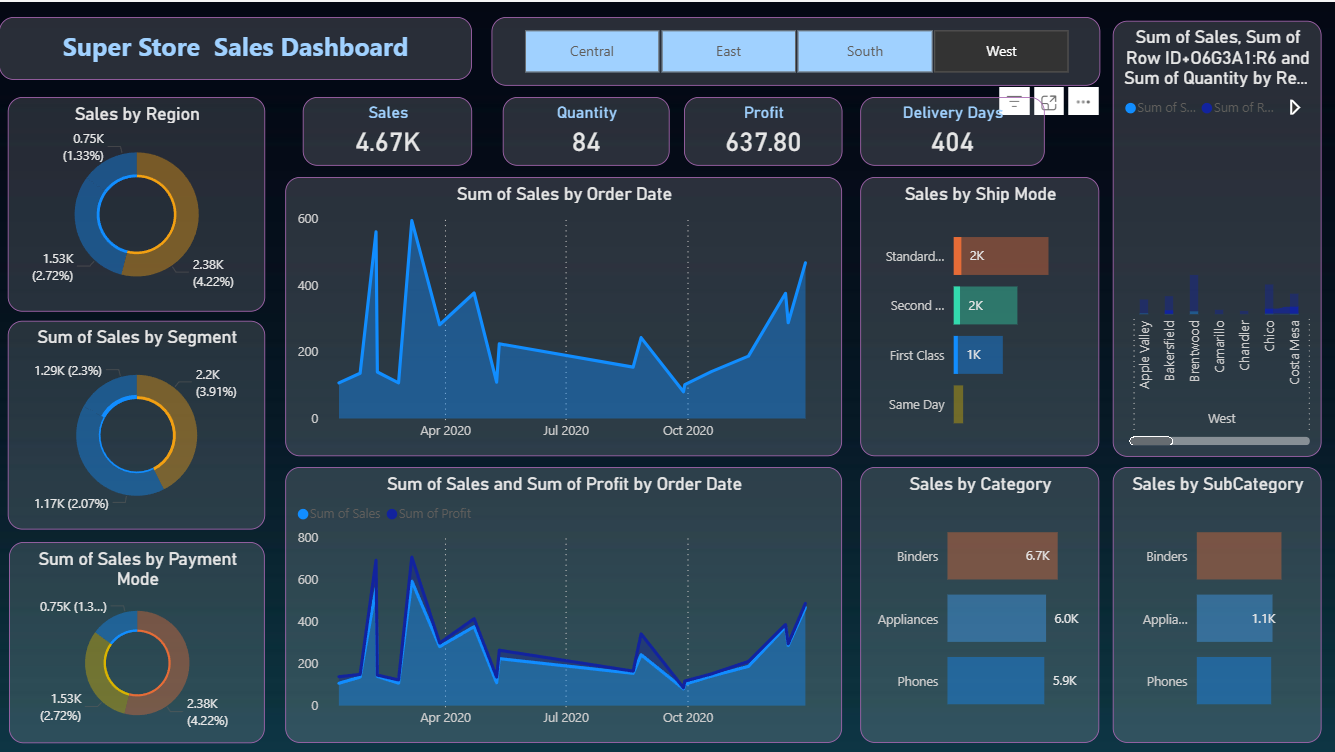

This screenshot's page, from the dashboard's own definition file:
{"tool":"powerbi","page":{"name":"Page 1","canvas":[1280,720],"ordinal":0},"visuals":[{"type":"clusteredBarChart","title":" Sales by Ship Mode","fields":{"Y":["Sum(SuperStore_Sales_Dataset.Sales)"],"Category":["SuperStore_Sales_Dataset.Ship Mode","SuperStore_Sales_Dataset.Category"]},"box":[822,167.4,227.8,266.2],"z":0},{"type":"clusteredBarChart","title":" Sales by SubCategory","fields":{"Y":["Sum(SuperStore_Sales_Dataset.Sales)"],"Category":["SuperStore_Sales_Dataset.Sub-Category"]},"box":[1062.1,443.2,199,263.5],"z":1000},{"type":"stackedAreaChart","fields":{"Category":["SuperStore_Sales_Dataset.Order Date"],"Y":["Sum(SuperStore_Sales_Dataset.Sales)"]},"box":[273.1,167.4,531,266.2],"z":2000},{"type":"stackedAreaChart","fields":{"Category":["SuperStore_Sales_Dataset.Order Date"],"Y":["Sum(SuperStore_Sales_Dataset.Sales)","Sum(SuperStore_Sales_Dataset.Profit)"]},"box":[273.1,443.2,531,263.5],"z":3000},{"type":"donutChart","fields":{"Category":["SuperStore_Sales_Dataset.Segment"],"Y":["Sum(SuperStore_Sales_Dataset.Sales)"]},"box":[8.2,304.6,245.6,199],"z":4000},{"type":"donutChart","fields":{"Category":["SuperStore_Sales_Dataset.Payment Mode","SuperStore_Sales_Dataset.Segment"],"Y":["Sum(SuperStore_Sales_Dataset.Sales)"]},"box":[9.6,514.6,244.3,192.1],"z":5000},{"type":"slicer","fields":{"Values":["SuperStore_Sales_Dataset.Region"]},"box":[469.3,13.7,580.4,65.9],"z":6000},{"type":"textbox","box":[0,13.7,451.5,60.4],"z":7000},{"type":"card","title":"Sales","fields":{"Values":["Sum(SuperStore_Sales_Dataset.Sales)"]},"box":[289.5,90.6,161.9,65.9],"z":8000},{"type":"card","title":"Quantity","fields":{"Values":["Sum(SuperStore_Sales_Dataset.Quantity)"]},"box":[480.3,90.6,159.2,65.9],"z":9000},{"type":"card","title":"Profit","fields":{"Values":["Sum(SuperStore_Sales_Dataset.Profit)"]},"box":[653.2,90.6,150.9,65.9],"z":10000},{"type":"card","title":"Delivery Days","fields":{"Values":["Sum(SuperStore_Sales.Delivery Days)"]},"box":[822,90.6,175.6,65.9],"z":11000},{"type":"donutChart","title":"Sales by Region","fields":{"Category":["SuperStore_Sales.Payment Mode","SuperStore_Sales.Country"],"Y":["Sum(SuperStore_Sales_Dataset.Sales)"],"Series":["SuperStore_Sales.Region"]},"box":[8.2,90.6,245.6,204.5],"z":12000},{"type":"clusteredBarChart","title":" Sales by Category","fields":{"Y":["Sum(SuperStore_Sales_Dataset.Sales)"],"Category":["SuperStore_Sales_Dataset.Sub-Category"]},"box":[822,443.2,227.8,263.5],"z":13000},{"type":"ribbonChart","fields":{"Category":["SuperStore_Sales.Region","SuperStore_Sales.City"],"Y":["Sum(SuperStore_Sales.Sales)","Sum(SuperStore_Sales.Row ID+O6G3A1:R6)","Sum(SuperStore_Sales.Quantity)"]},"box":[1062.1,17.8,199,415.8],"z":14000}]}

Visuals, with their boxes on the page's 1280x720 design canvas (x1, y1, x2, y2). These are canvas units, not pixel positions in the 1335x752 screenshot, which may show the page scaled, cropped or inside an application window:
" Sales by Ship Mode" clusteredBarChart: x1=822 y1=167 x2=1050 y2=434
" Sales by SubCategory" clusteredBarChart: x1=1062 y1=443 x2=1261 y2=707
stackedAreaChart - SuperStore_Sales_Dataset.Order Date x Sum(SuperStore_Sales_Dataset.Sales): x1=273 y1=167 x2=804 y2=434
stackedAreaChart - SuperStore_Sales_Dataset.Order Date x Sum(SuperStore_Sales_Dataset.Sales): x1=273 y1=443 x2=804 y2=707
donutChart - SuperStore_Sales_Dataset.Segment x Sum(SuperStore_Sales_Dataset.Sales): x1=8 y1=305 x2=254 y2=504
donutChart - SuperStore_Sales_Dataset.Payment Mode x SuperStore_Sales_Dataset.Segment: x1=10 y1=515 x2=254 y2=707
slicer - SuperStore_Sales_Dataset.Region: x1=469 y1=14 x2=1050 y2=80
textbox: x1=0 y1=14 x2=452 y2=74
"Sales" card: x1=290 y1=91 x2=451 y2=156
"Quantity" card: x1=480 y1=91 x2=640 y2=156
"Profit" card: x1=653 y1=91 x2=804 y2=156
"Delivery Days" card: x1=822 y1=91 x2=998 y2=156
"Sales by Region" donutChart: x1=8 y1=91 x2=254 y2=295
" Sales by Category" clusteredBarChart: x1=822 y1=443 x2=1050 y2=707
ribbonChart - SuperStore_Sales.Region x SuperStore_Sales.City: x1=1062 y1=18 x2=1261 y2=434
